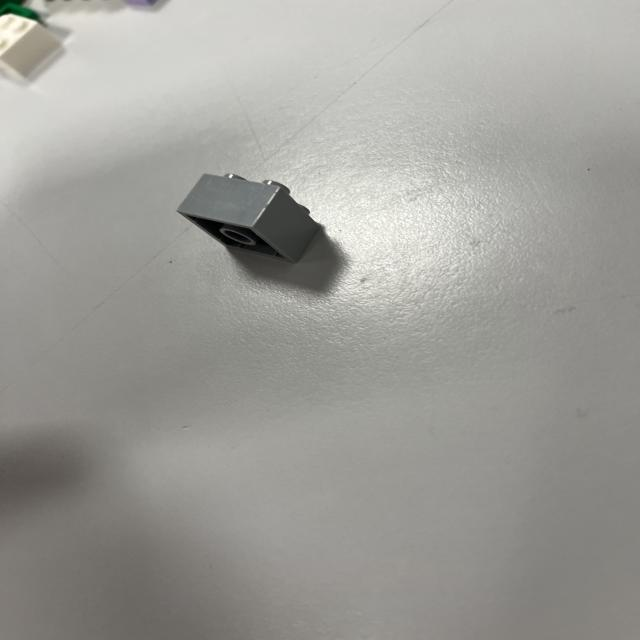C2x2x1: (170, 168, 332, 266)
